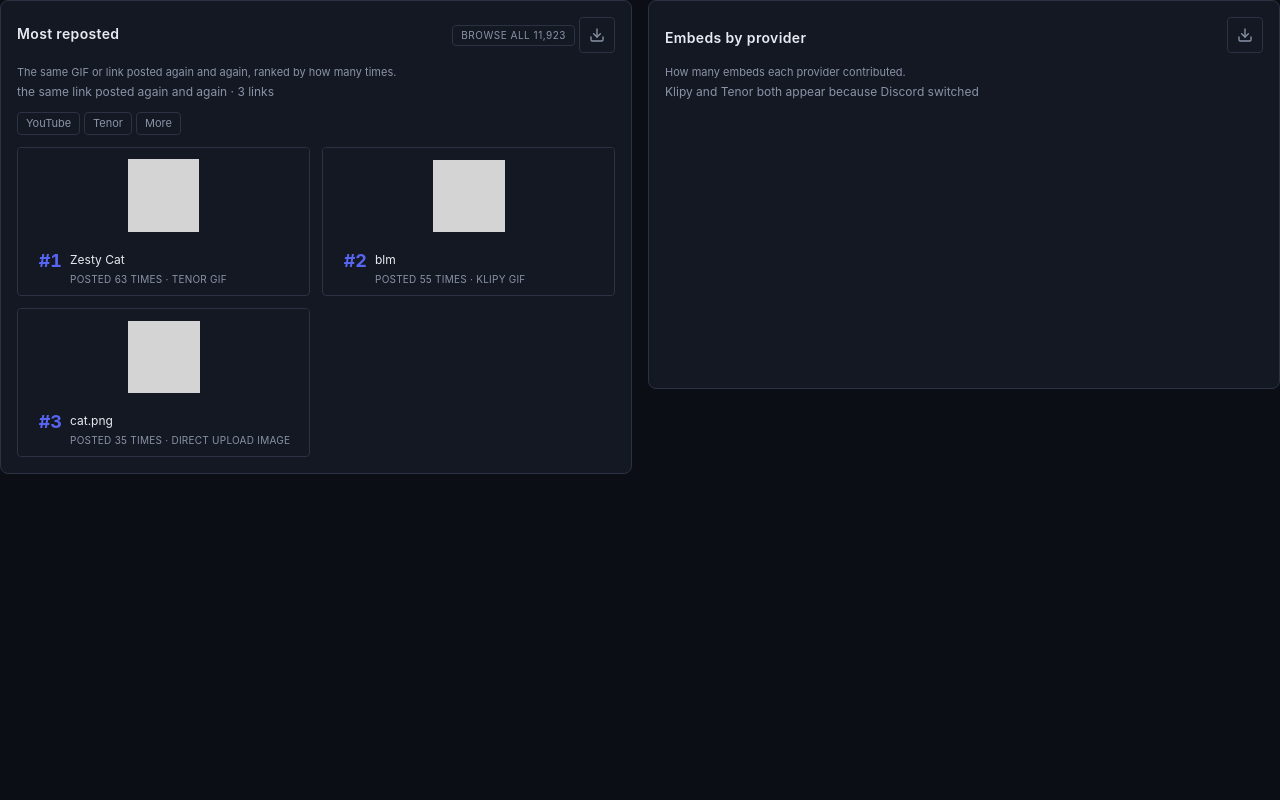
Test: <RichMedia> › closes from its own Close button without leaving the page
This screenshot has width=1280, height=800.
Click the button "Browse all 11,923" at point(514, 35), box [452,24,575,46]
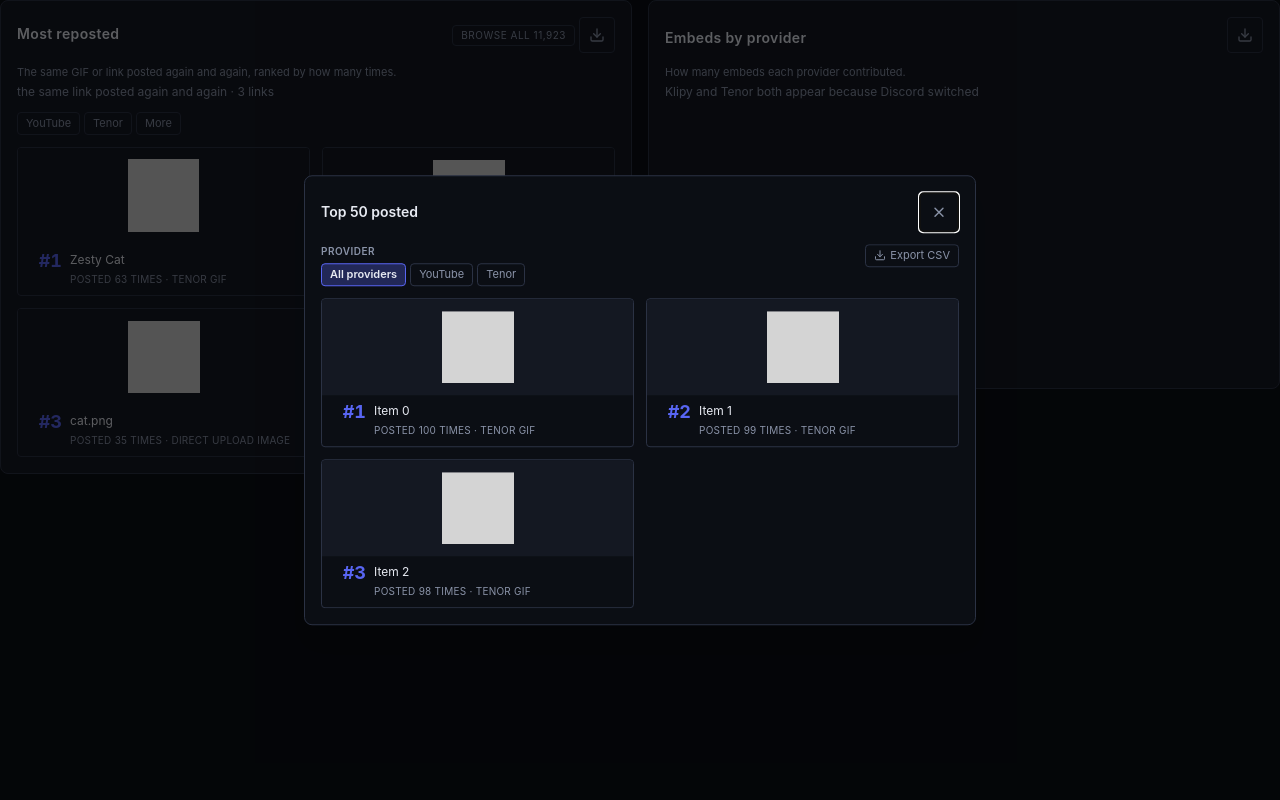
Click the button named "Close" at point(939, 212), box [919,192,959,232]
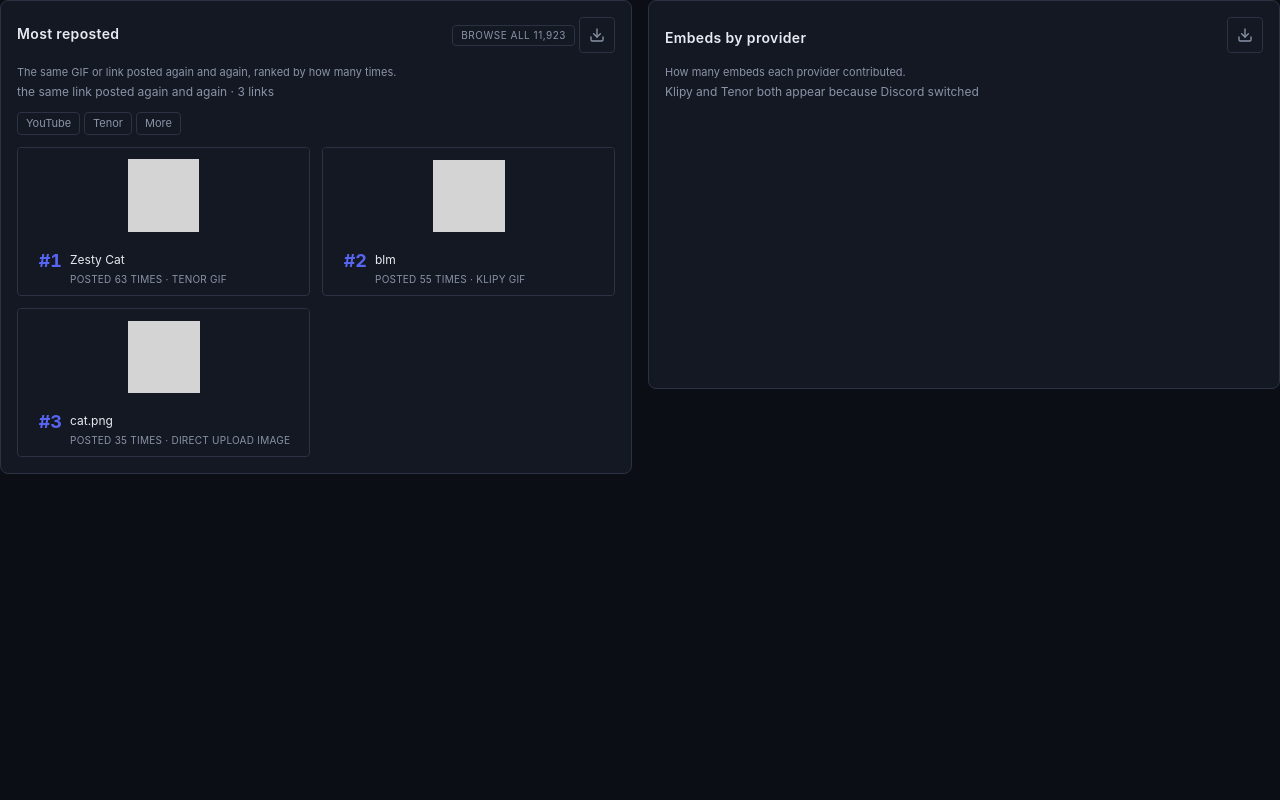
Expected: the dialog is gone
